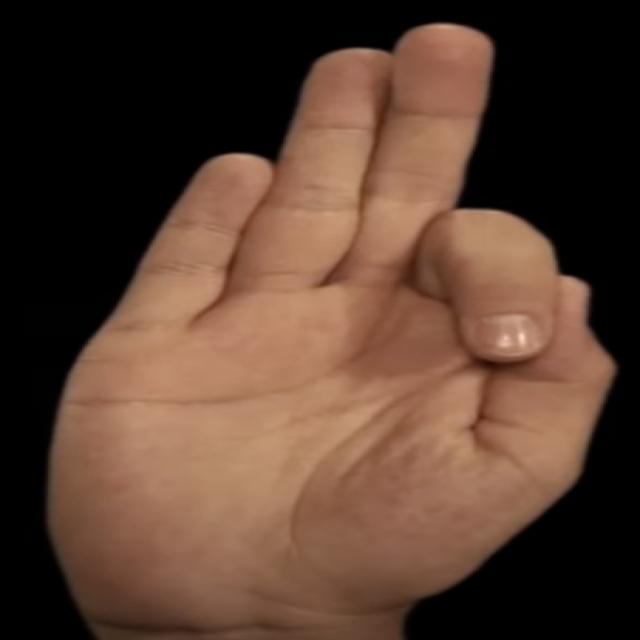F: (33, 16, 628, 622)
